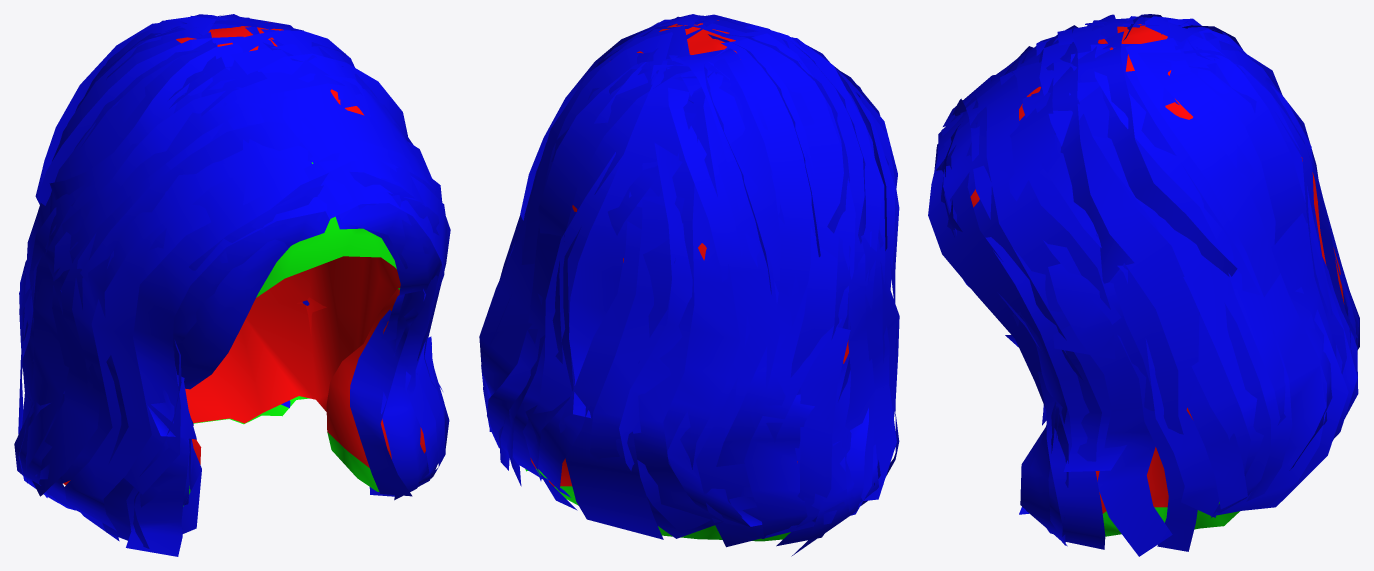
File: hair_008.obj
The picture shows the model from 3 angles, left to right: view 1: azimuth 30°, elevation 25°; view 2: azimuth 150°, elevation 25°; view 3: azimuth 270°, elevation 25°; orthographic projection. The views are drawn at different scales.
Bounding box in the file's own units: 24.63 × 30.01 × 25.97.
